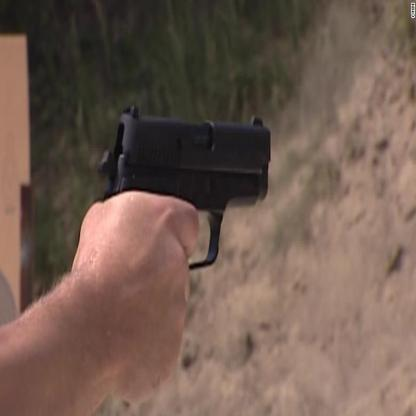Pistol: (92, 93, 270, 278)
